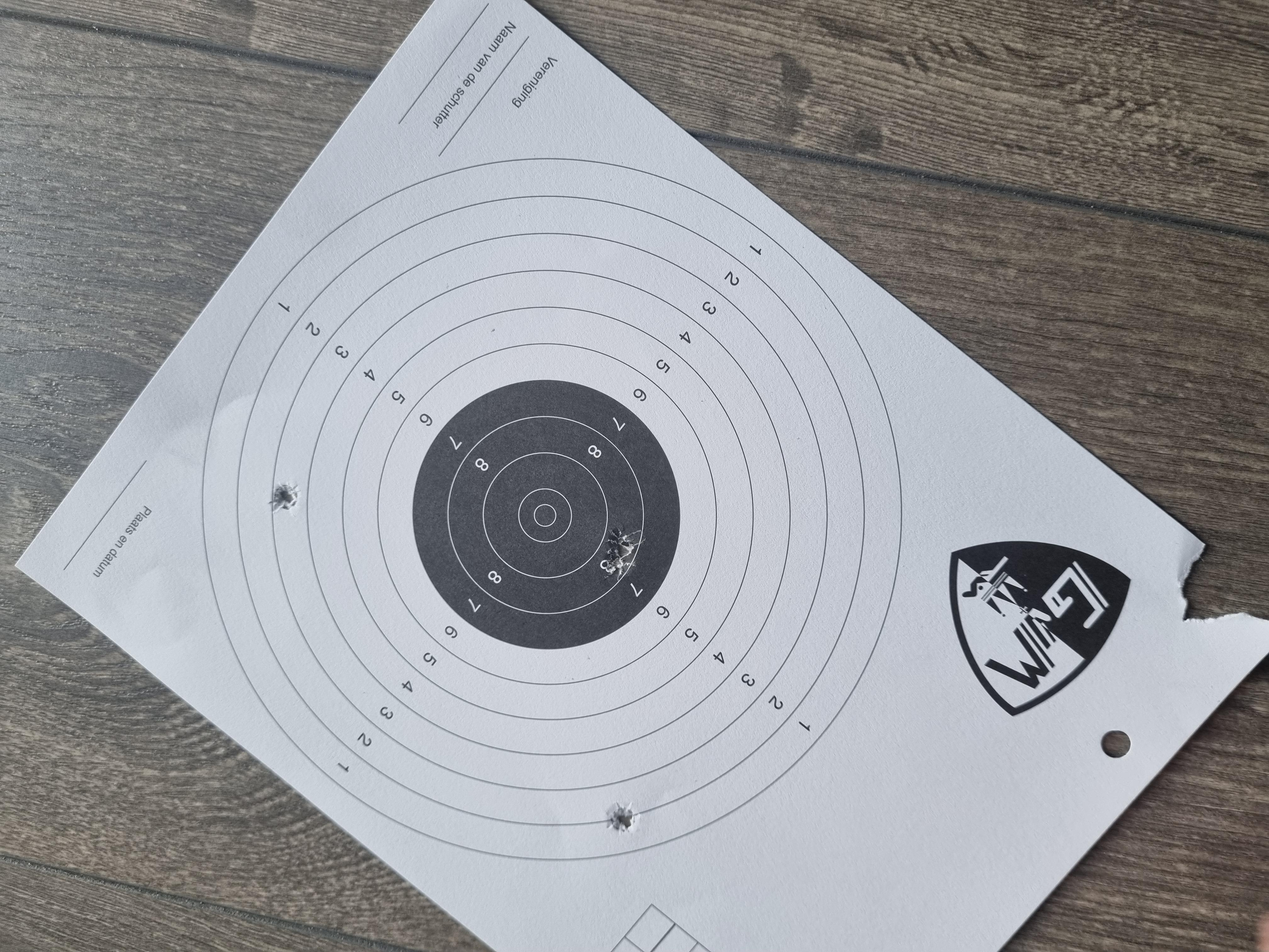hole: (531, 453, 567, 480), (158, 455, 200, 478), (586, 200, 626, 224), (499, 448, 533, 476)
